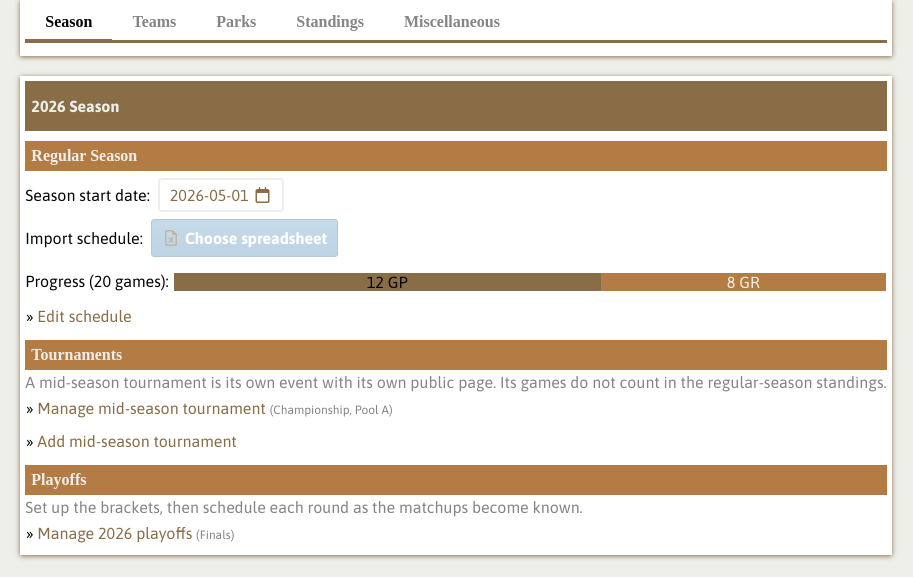
Test: Executive Page › standings tab explains when the rules fetch failed
This screenshot has width=913, height=577.
Click the button "Standings". click: click(330, 24)
box: x1=276 y1=5 x2=384 y2=43
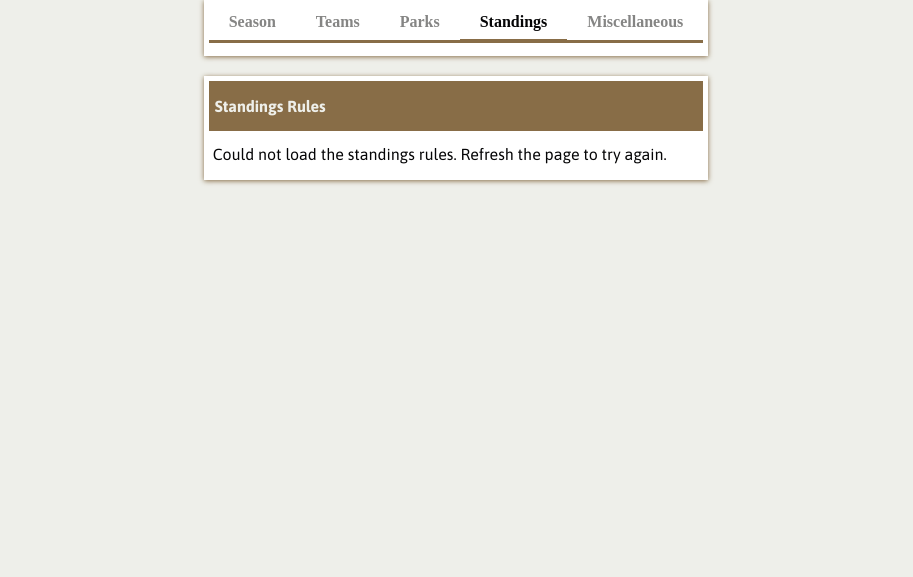
Check: the text "Could not load the standings rules" is shown, box x1=213 y1=145 x2=667 y2=163
